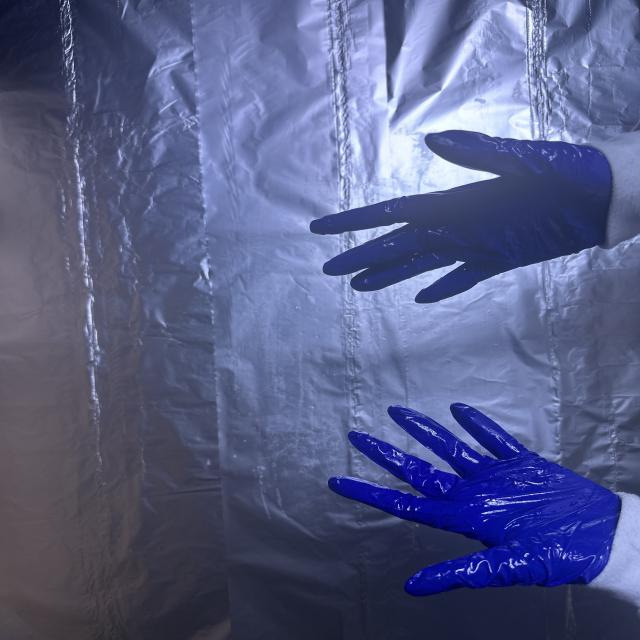gloves_contaminated: (329, 404, 621, 595), (311, 131, 611, 303)
